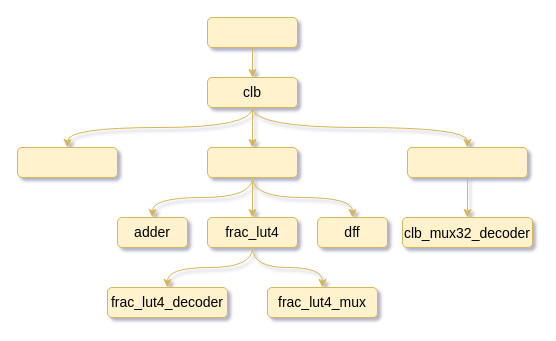
This 556x341 diagram has some shape labels left out. The centre of each missing label's shape, as x and y in pixels:
clb_decoder: the point at 67,162
clb_mux32_mem: the point at 467,162
fle: the point at 252,162
grid_clb: the point at 252,32
